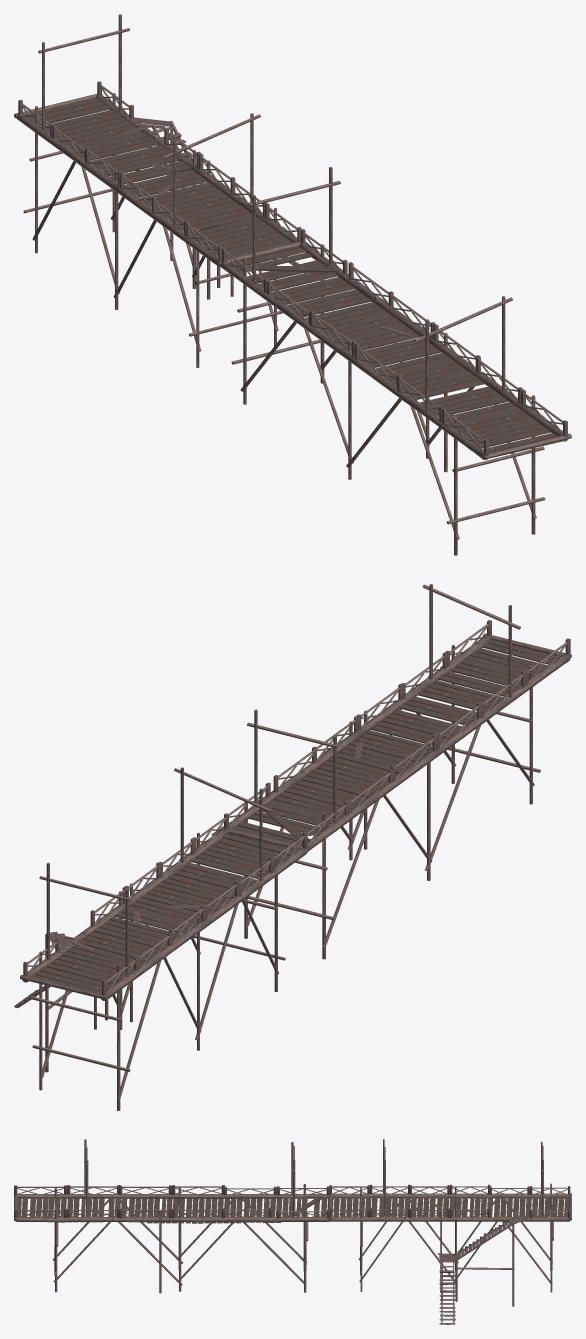
File: bridge.fbx
3 renders of one model, top to bottom at view 1: azimuth 30°, elevation 25°; view 2: azimuth 150°, elevation 25°; view 3: azimuth 270°, elevation 25°, orthographic. The views are drawn at different scales.
Visible parts, largest first — view 1: Group1; view 2: Group1; view 3: Group1.
Part boxes in pixels (box(x1,y1,x2,y2)): Group1: box(14, 14, 571, 555); Group1: box(14, 584, 571, 1110); Group1: box(14, 1139, 571, 1324).
Size of the model in its own units: 540 by 606 by 2205.
